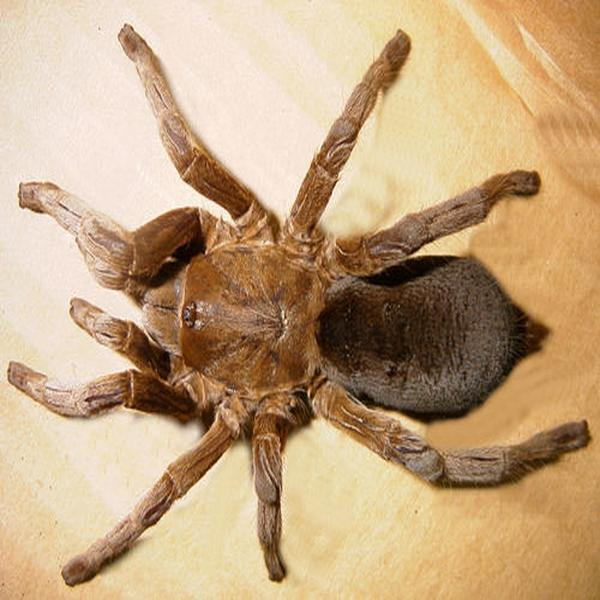Tarantula Spider: (22, 34, 582, 573)
